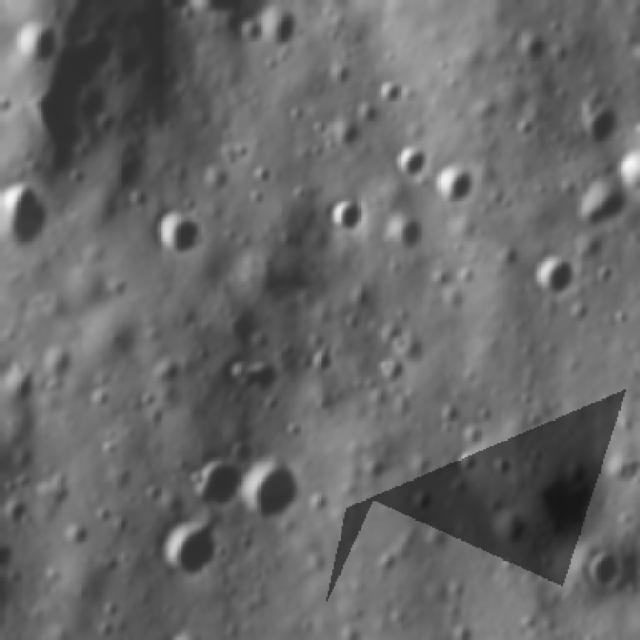crater: (528, 444, 607, 547), (155, 514, 220, 583), (244, 453, 302, 529), (0, 182, 51, 250), (576, 176, 626, 239), (151, 206, 207, 262), (192, 458, 245, 509), (11, 15, 64, 66), (530, 252, 579, 305), (256, 4, 306, 53), (582, 547, 626, 602), (578, 100, 622, 152), (384, 139, 433, 184), (432, 160, 474, 211), (228, 355, 280, 396), (490, 510, 535, 556), (385, 210, 423, 259), (328, 193, 364, 238), (511, 31, 552, 67), (222, 315, 258, 353), (432, 406, 468, 442), (227, 435, 261, 471), (406, 482, 440, 516), (376, 71, 402, 106), (458, 425, 484, 458), (456, 449, 482, 478), (490, 452, 512, 480)
